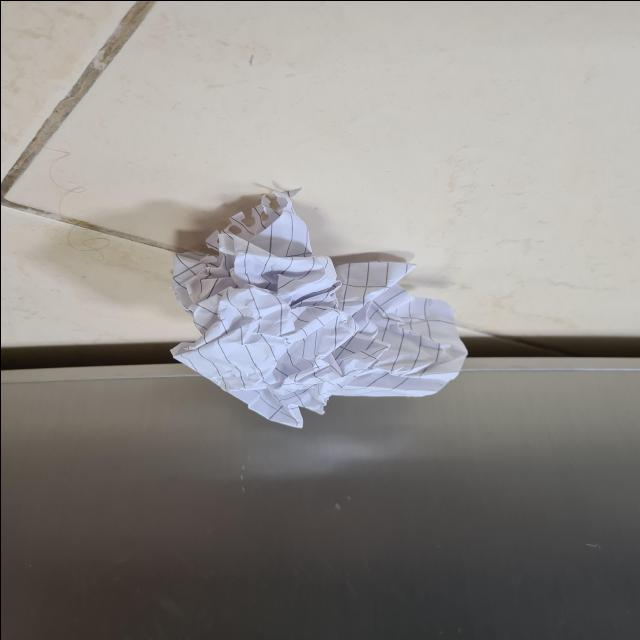kertas: (160, 196, 474, 425)
